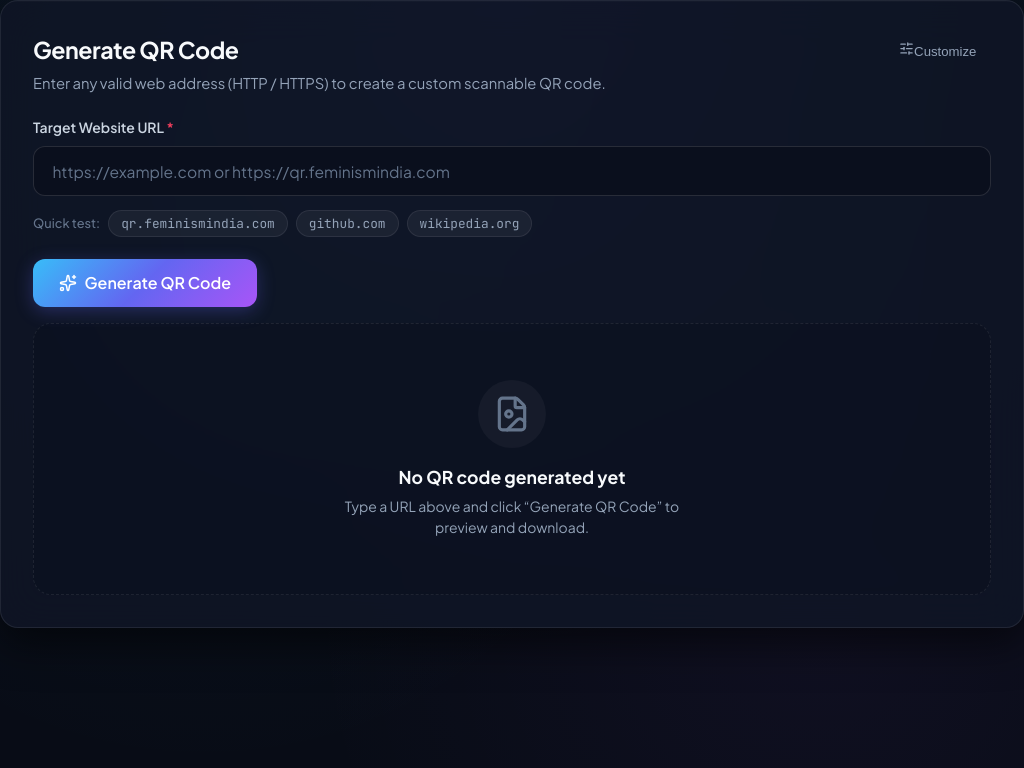
it: QRGenerator Component › shows error banner when submitting empty input
The width and height of the screenshot is (1024, 768).
Click the button "Generate QR Code": (145, 283) x1=33 y1=259 x2=257 y2=308
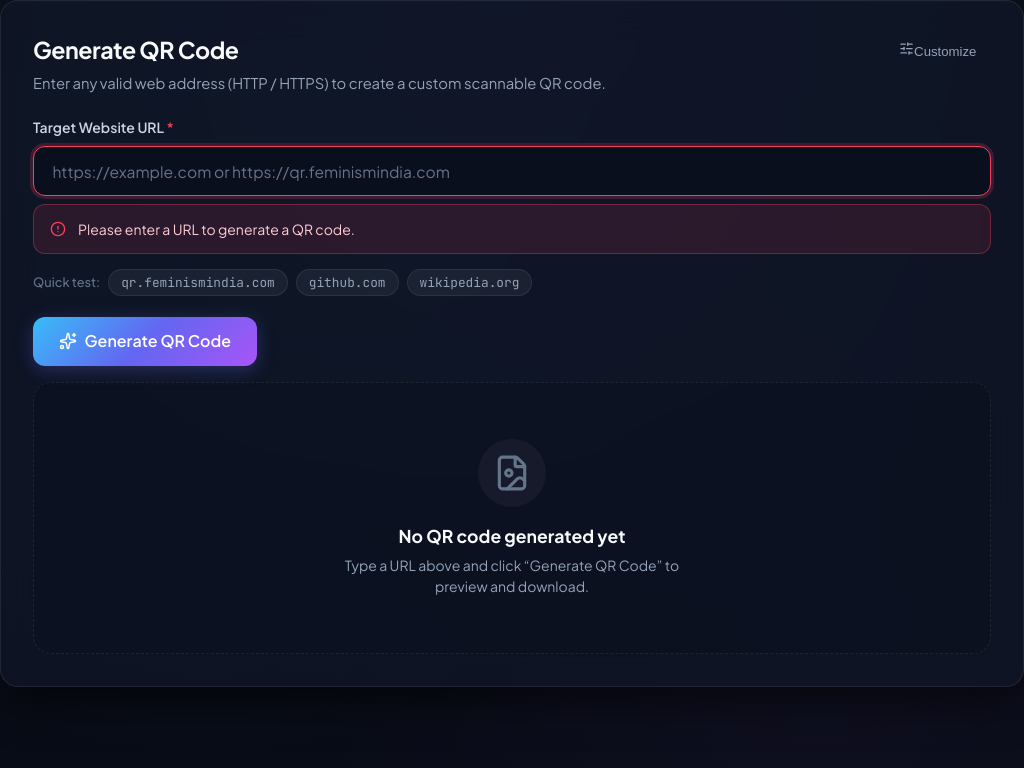
Expected: the message shows "Please enter a URL", x1=78 y1=220 x2=355 y2=238
